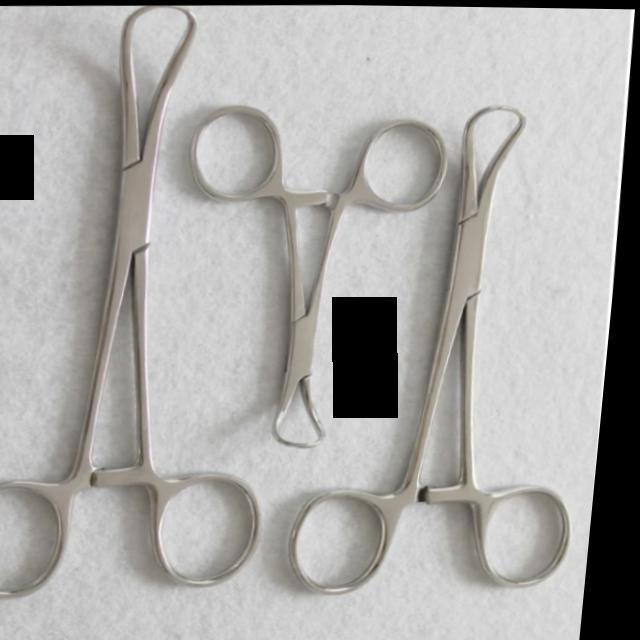Backhaus Towel Clamp: (0, 1, 321, 606), (287, 99, 618, 596), (161, 98, 463, 454)
